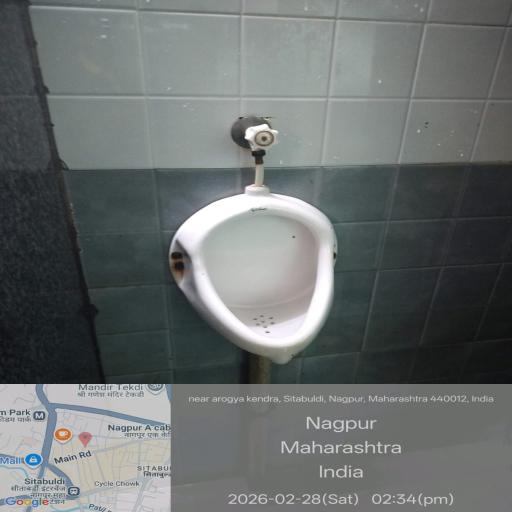clean_floor: (13, 0, 512, 184), (46, 352, 484, 512)
clean_urinal: (136, 173, 376, 392)
